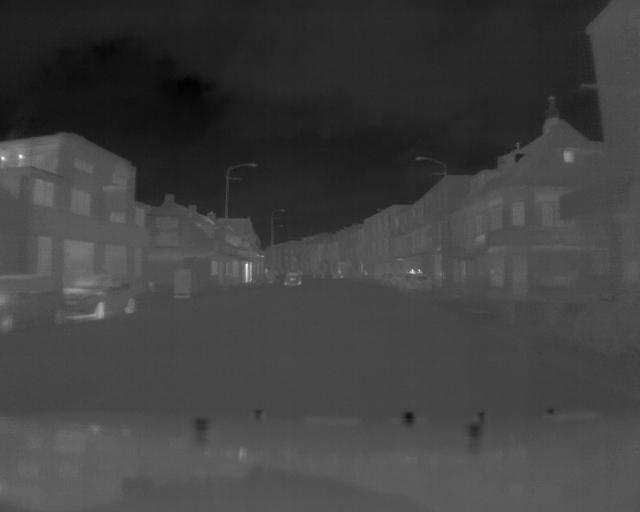car: (1, 274, 68, 326), (66, 275, 137, 320), (284, 270, 304, 288)
